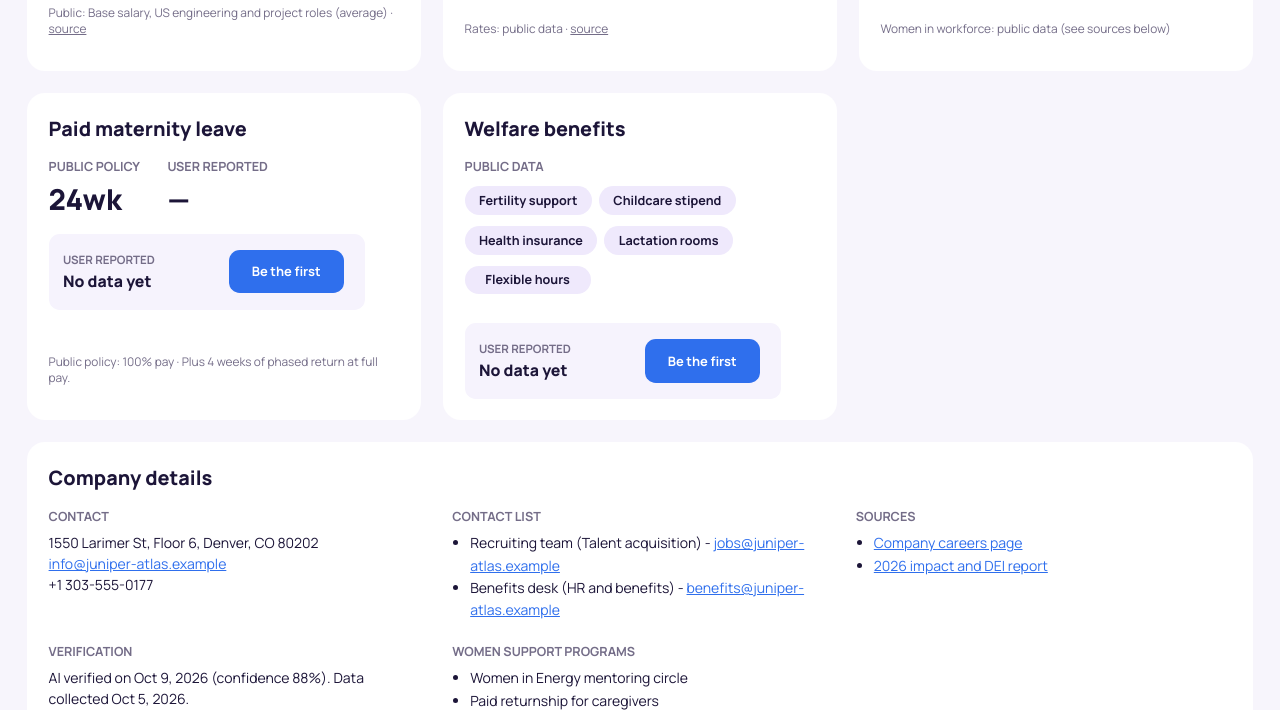
Test: CompanyProfilePage › keeps a first report private until enough people report
(page scrolled)
Click the button with aria-label "Be the first to report welfare benefits" at {"x": 702, "y": 361}, box [645, 339, 760, 383]
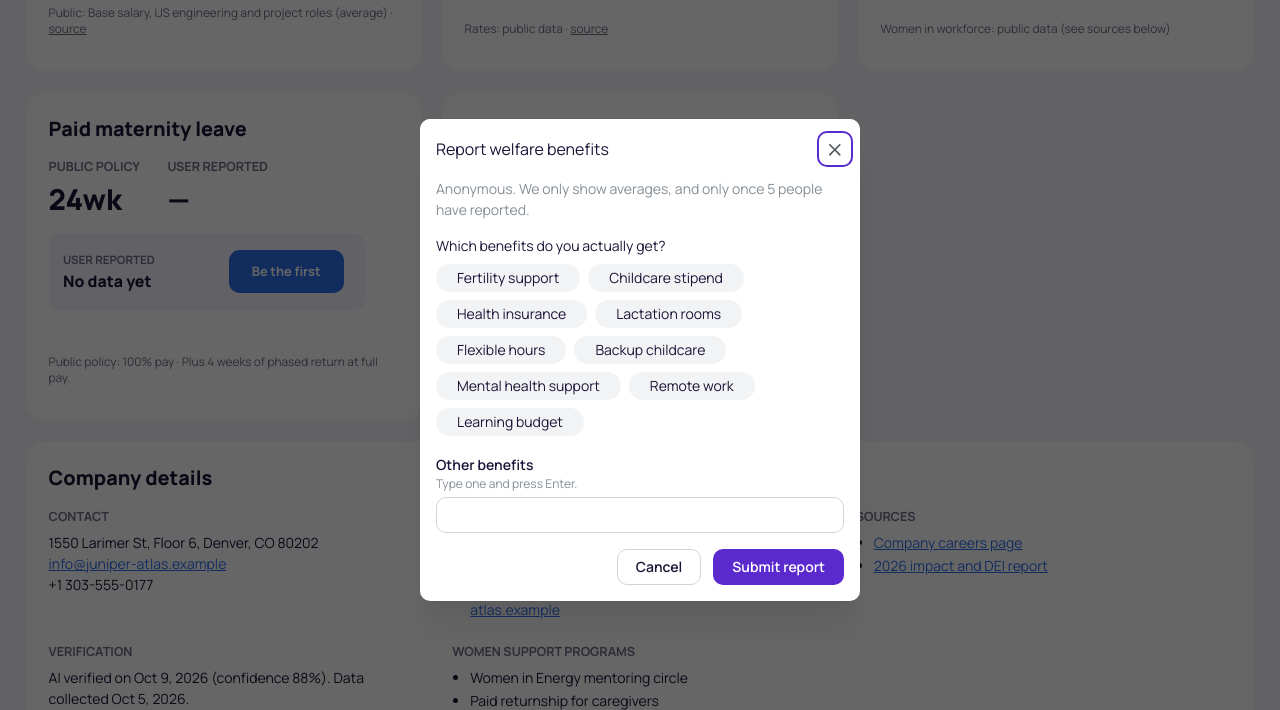
Click the checkbox labelled "Fertility support" at {"x": 508, "y": 278}, box [436, 264, 580, 292]
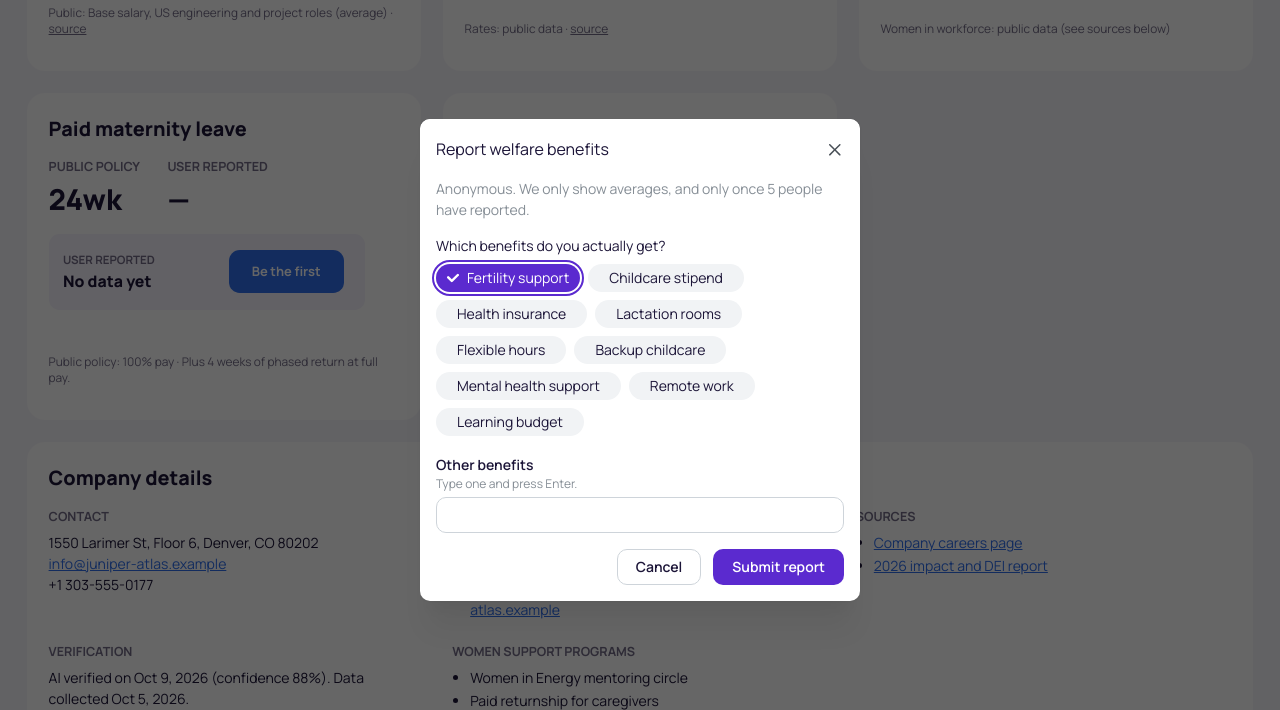
Click the button "Submit report" at {"x": 779, "y": 566}, box [713, 548, 844, 584]
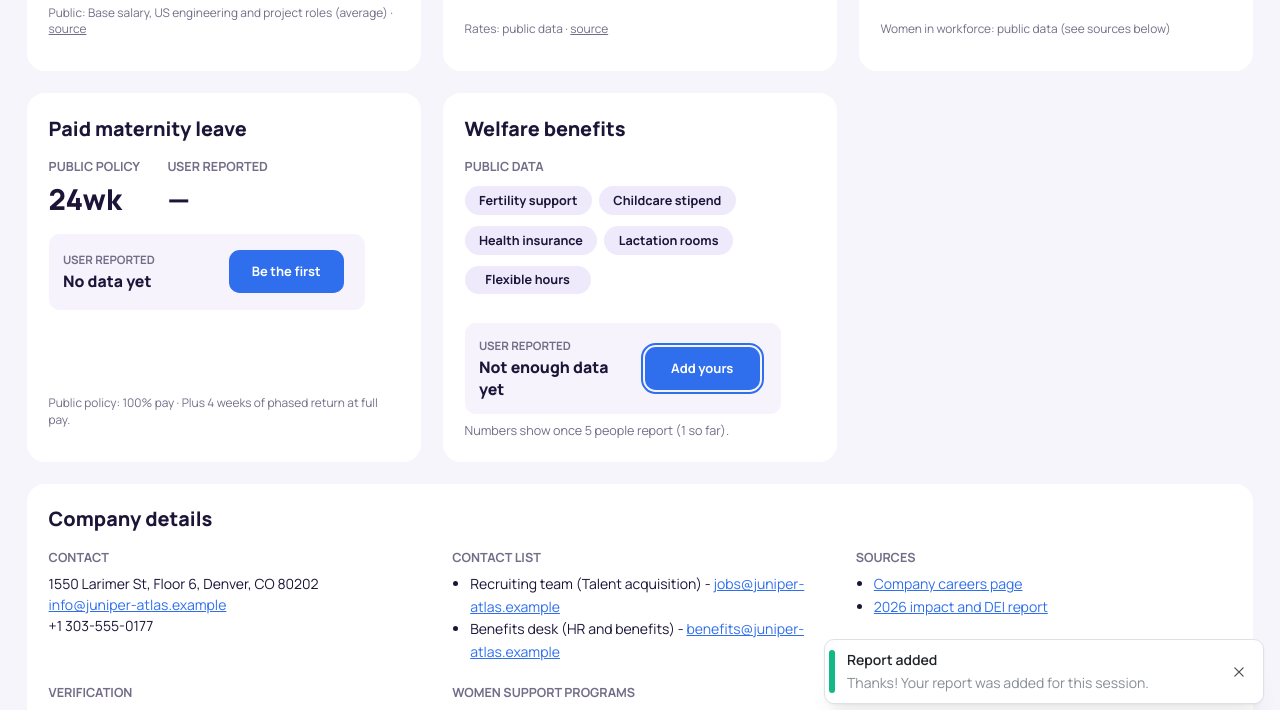
Expected: the text "Not enough data yet" is shown, [479, 356, 608, 400]
Expected: the text "Numbers show once 5 people report (1 so far)." is shown, [465, 422, 729, 439]
